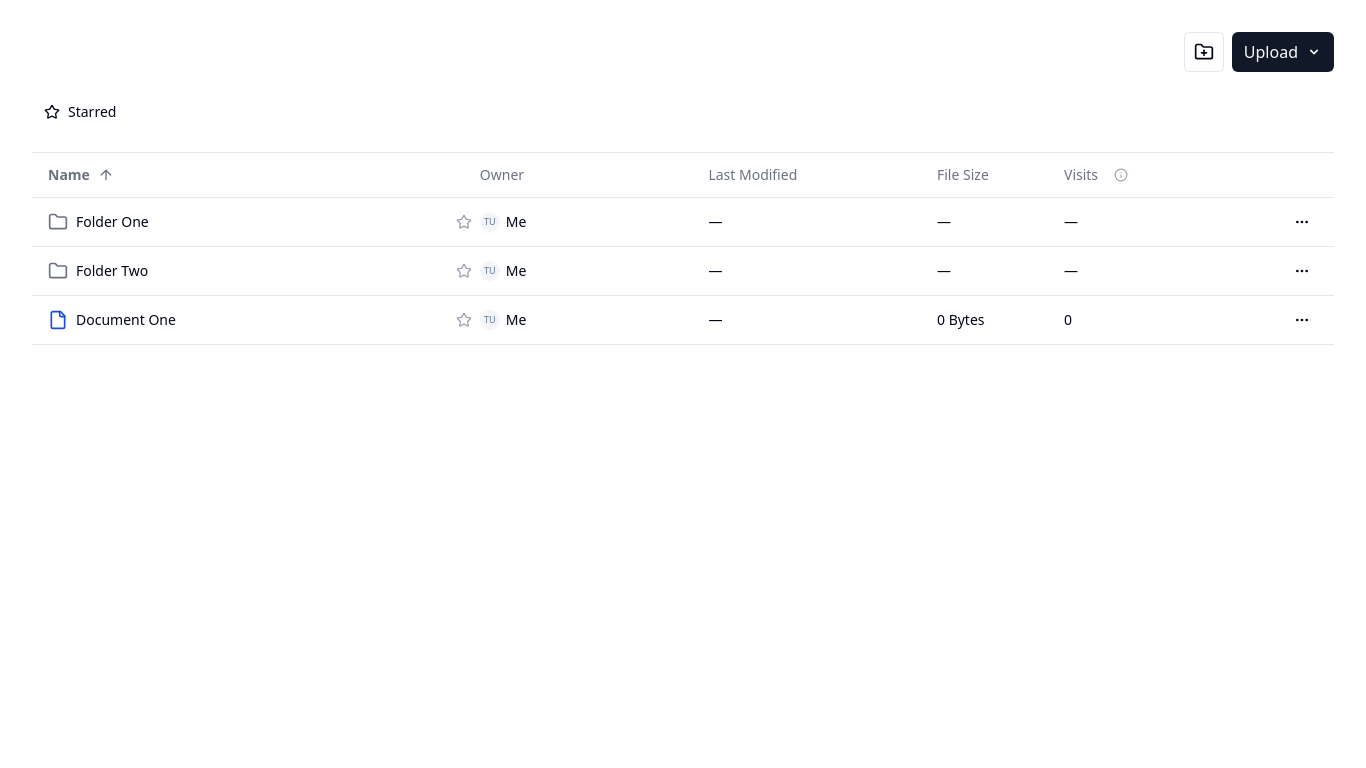
it: DocumentsPage › Move Items › should open move dialog, allow moving items, and refresh list on success
Expected: the button "Folder One" is shown, [76,212,149,232]
Select 'Folder One' and 'Document One' to move
Click the text "Folder One": (58, 222) [32,198,1334,246]
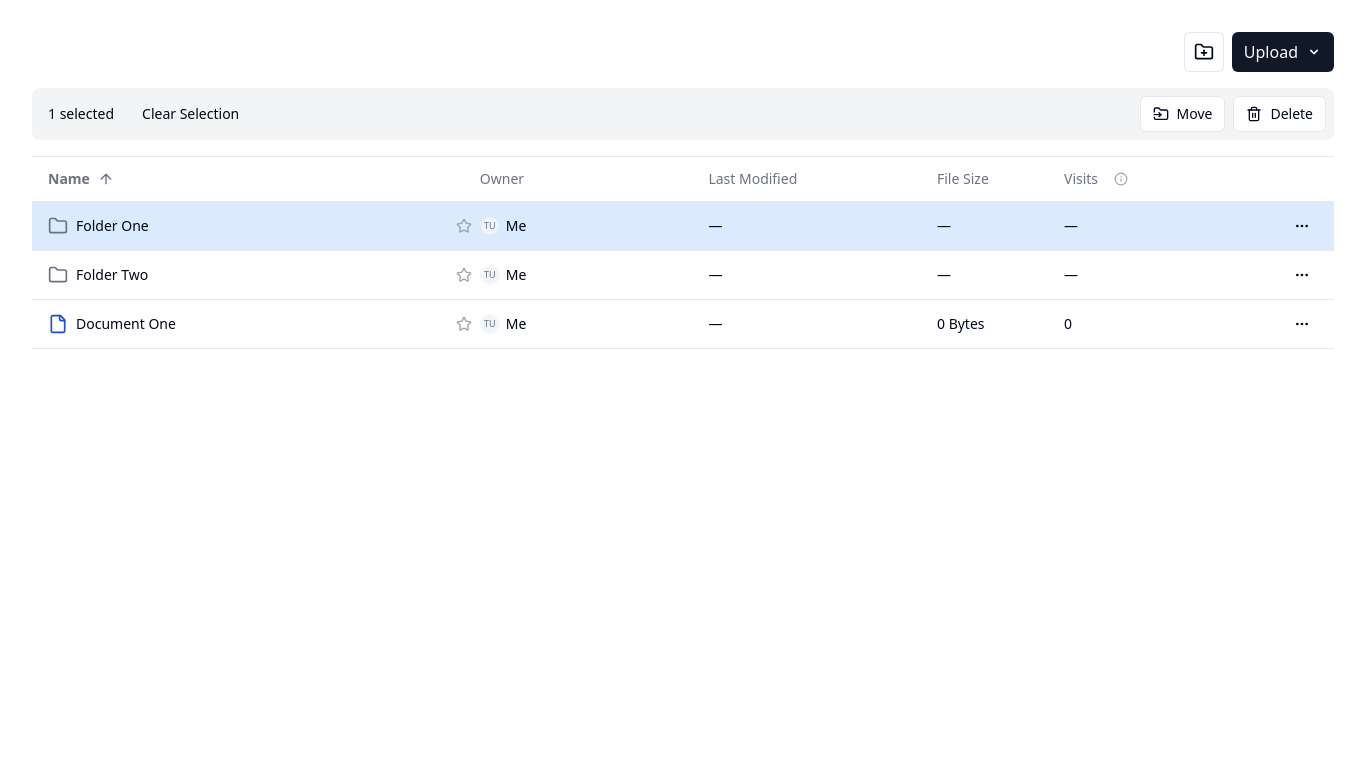
Type keys "{Meta>}"
Click the text "Document One": (683, 324) [32,299,1334,348]
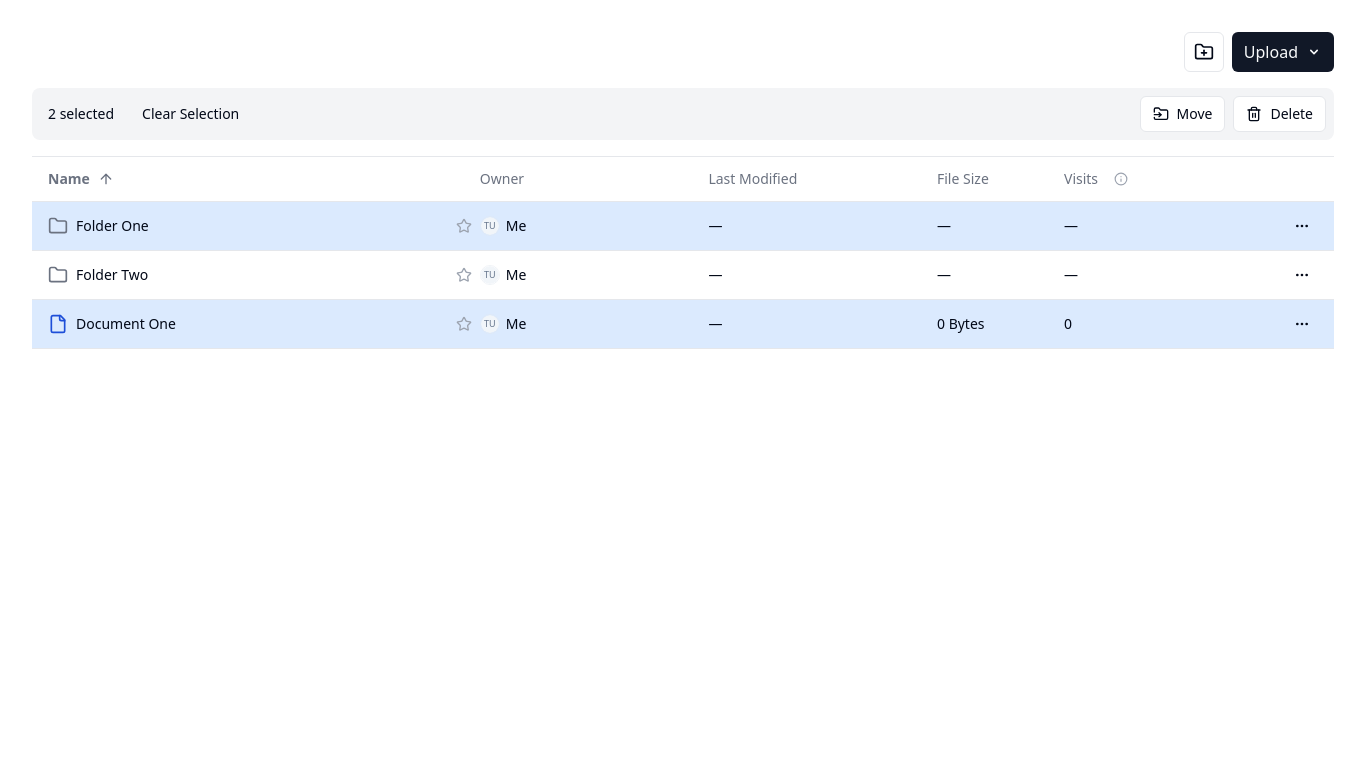
Type keys "{/Meta}"
Click the "Move" button in the action bar
Click the button "Move": (1182, 114) [1140,96,1225,132]
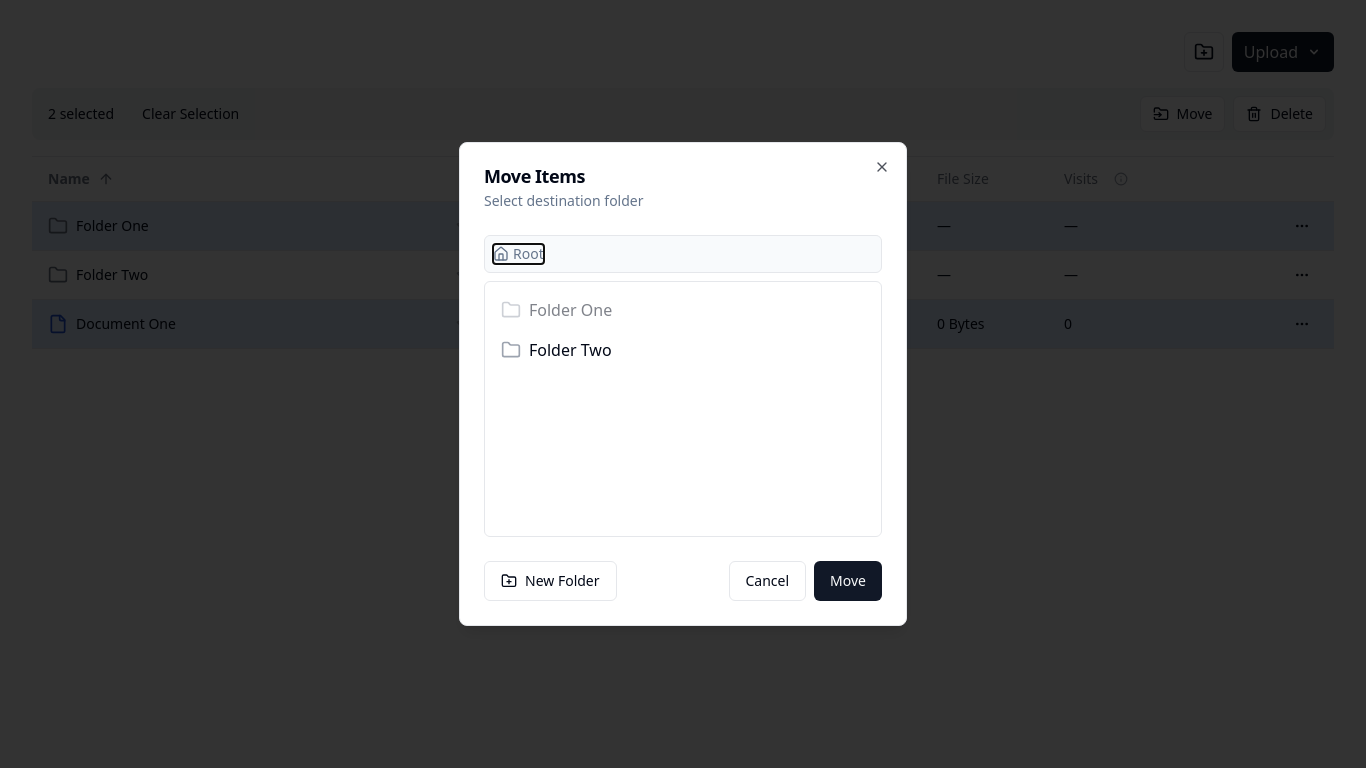
Result: the button "Folder One" is disabled at [493,290,873,330]
Result: the button "Folder Two" is enabled
Click the button "Folder Two": (570, 350) [493,330,873,370]
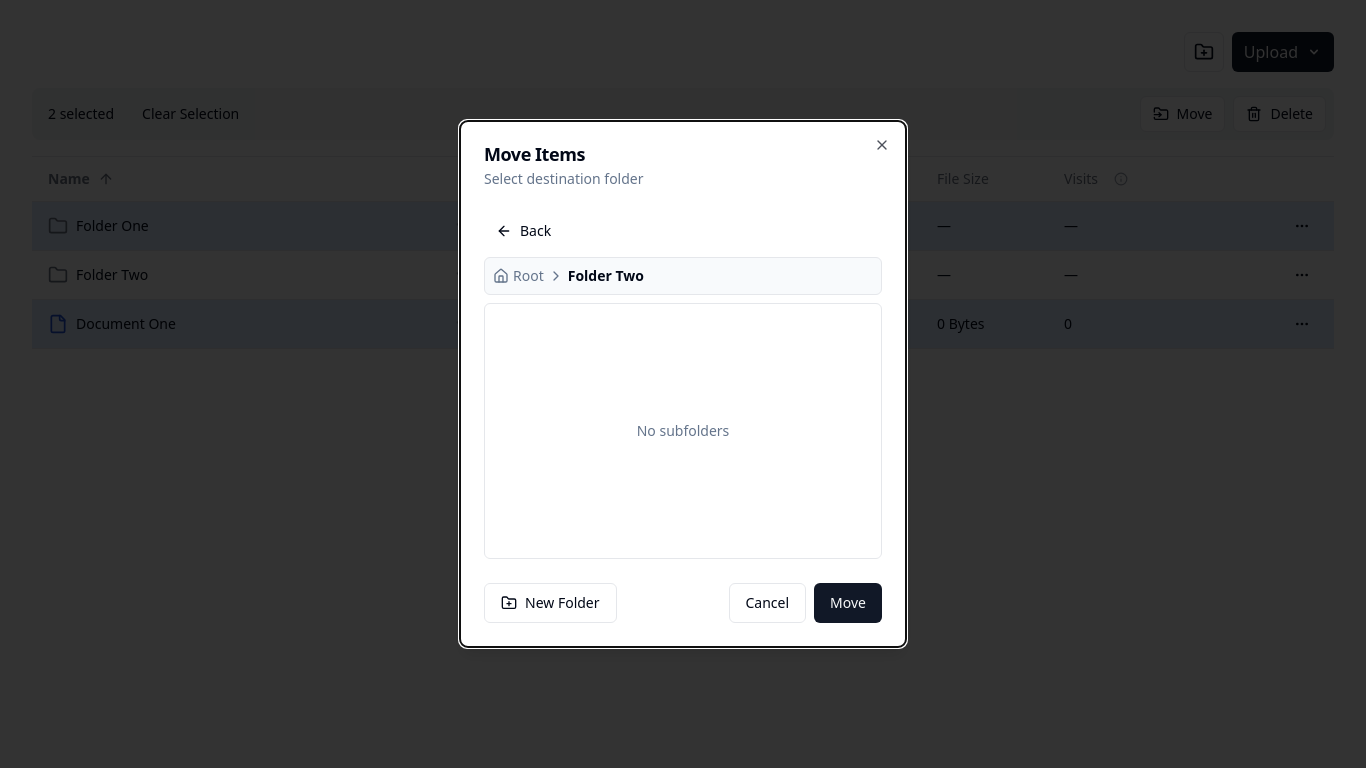
Result: the text "Folder Two" is shown at [568,266,644,286]
Confirm the move
Click the button "Move": (848, 603) [814,583,882,623]
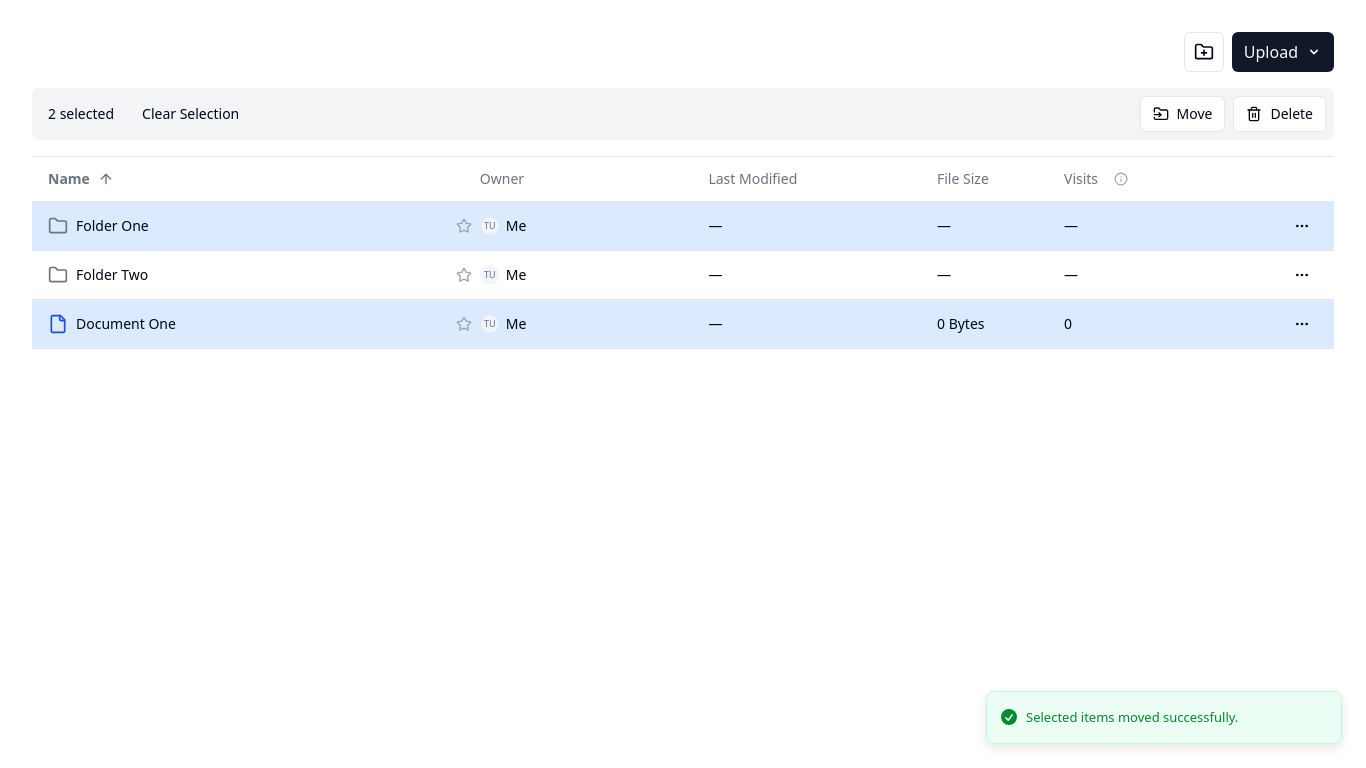
Result: the heading "Move Items" is gone
